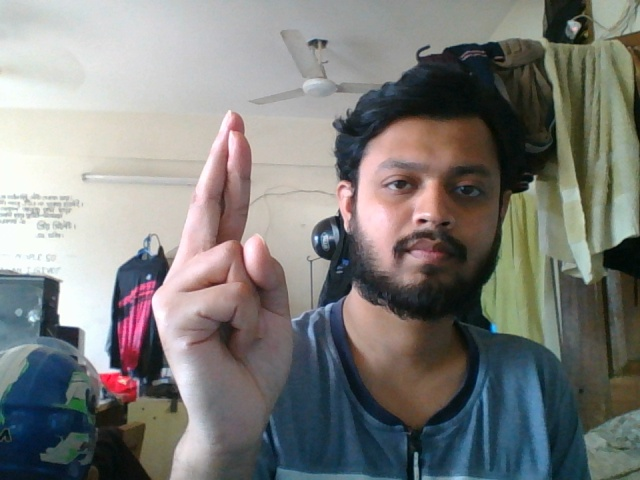r: (144, 103, 306, 460)
